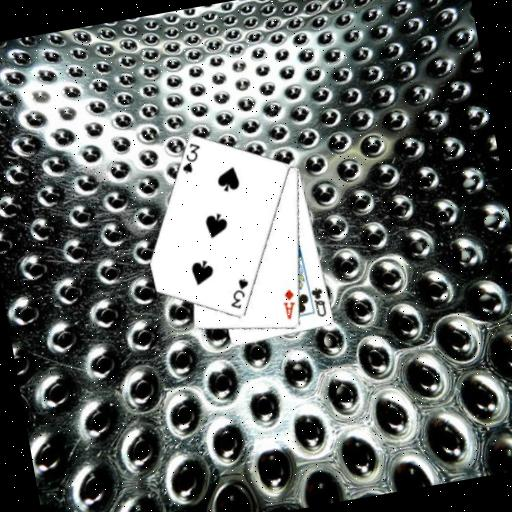3S: (223, 274, 254, 311), (175, 139, 205, 176)
AD: (278, 285, 299, 321)
QC: (307, 283, 329, 319)
